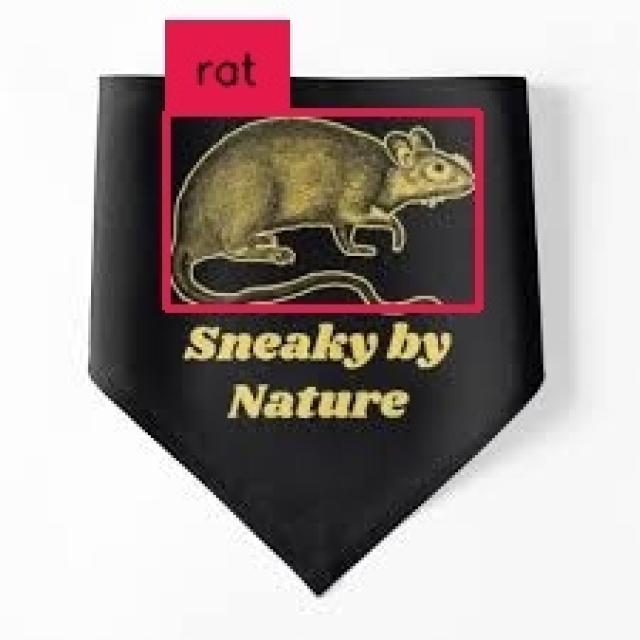rat: (165, 112, 478, 309)
